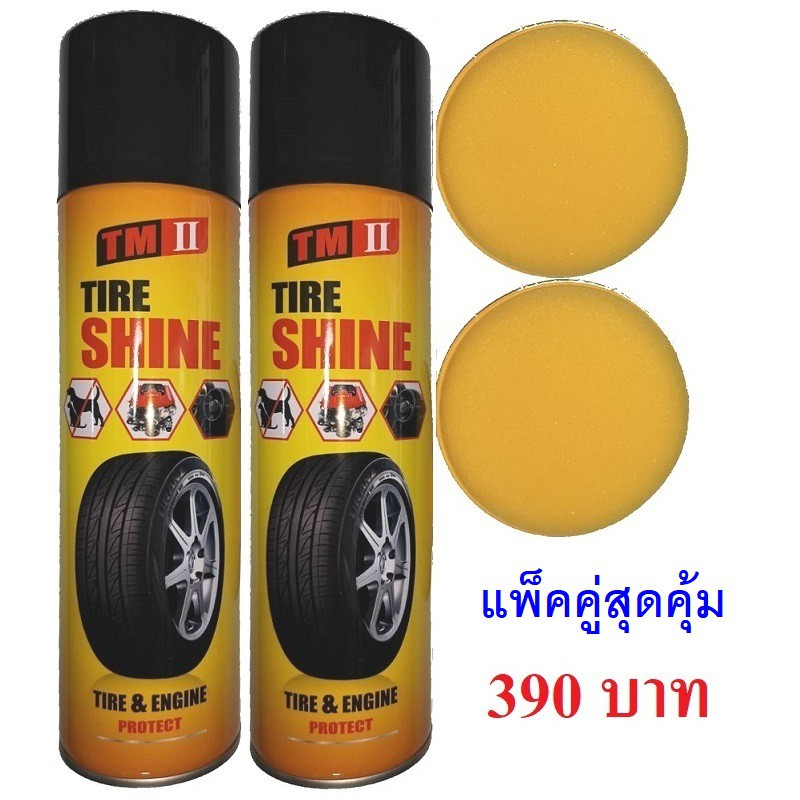Aerosol_cans: (54, 9, 246, 790), (246, 10, 435, 794)
